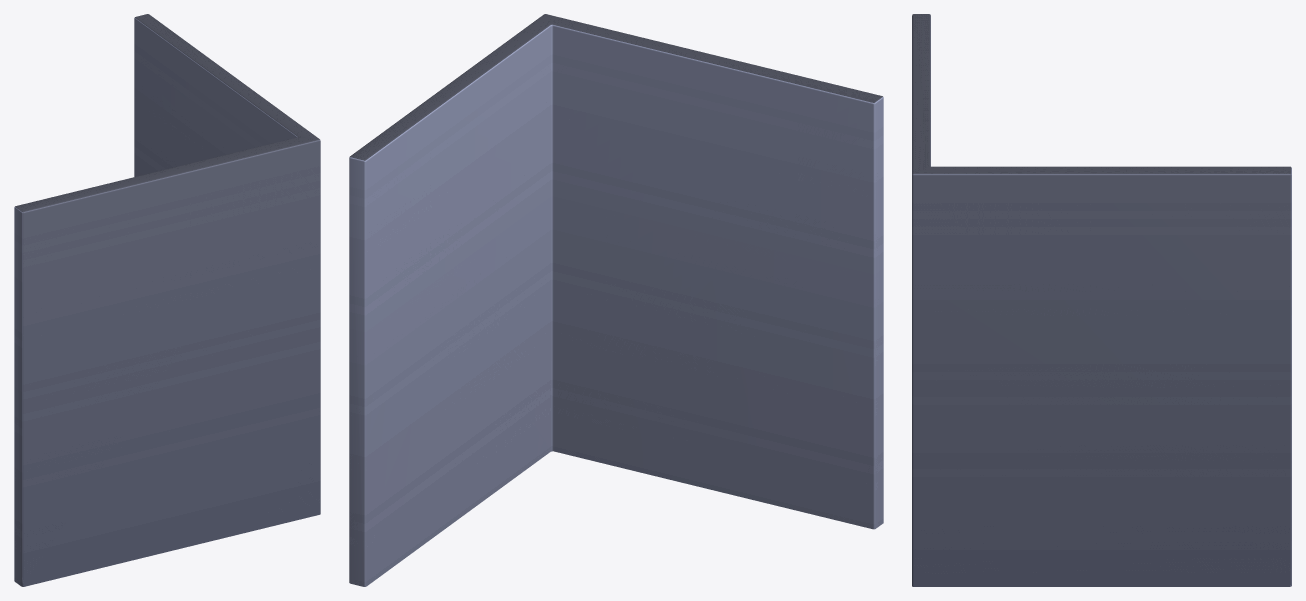
Rendered from wall-corner.glb.
The picture shows the model from 3 angles, left to right: view 1: azimuth 30°, elevation 25°; view 2: azimuth 150°, elevation 25°; view 3: azimuth 270°, elevation 25°; orthographic projection. The views are drawn at different scales.
Parts seen in each view (by area): view 1: wall-corner; view 2: wall-corner; view 3: wall-corner.
Part boxes in pixels (x1,y1,x2,y2): wall-corner: [14, 14, 320, 586]; wall-corner: [349, 14, 883, 586]; wall-corner: [912, 14, 1291, 586].
Size of the model in its own units: 2 by 2.4 by 2.
Materials: 1 (1 with a texture image).
